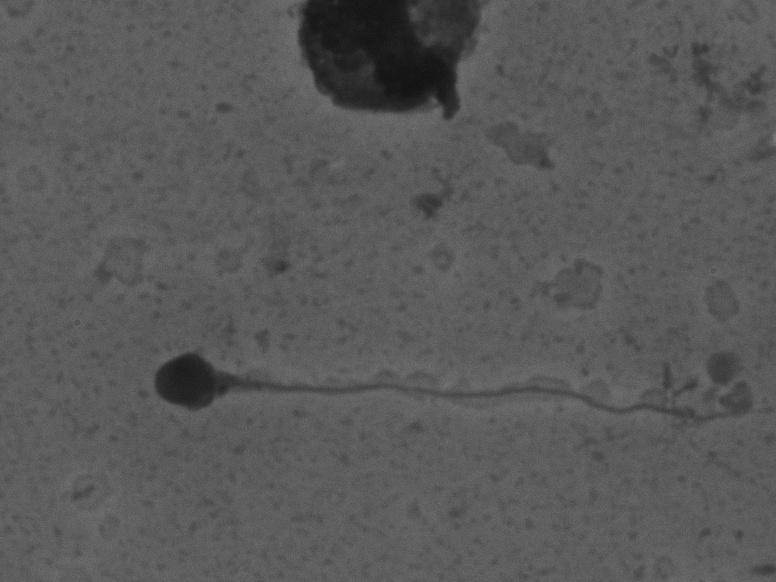Abnormal: (113, 325, 745, 463)
